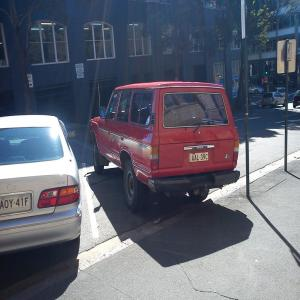Vehicle-registration-plate: (1, 195, 30, 211), (190, 153, 209, 162)
